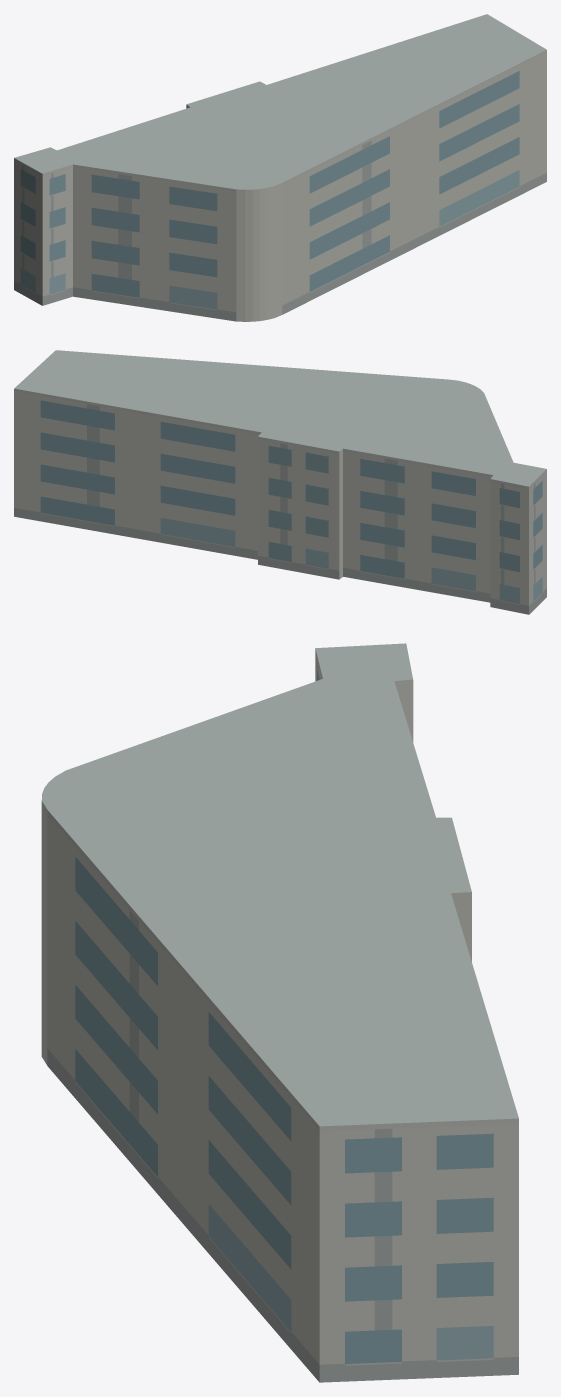
File: survey-upis-32979596.glb
The picture shows the model from 3 angles, top to bottom: view 1: azimuth 30°, elevation 25°; view 2: azimuth 150°, elevation 25°; view 3: azimuth 270°, elevation 25°; orthographic projection. The views are drawn at different scales.
Parts seen in each view (by area): view 1: survey-upis-32979596.tmp; view 2: survey-upis-32979596.tmp; view 3: survey-upis-32979596.tmp.
Boxes of the visible parts, x1,y1,x2,y2 form: survey-upis-32979596.tmp: (14, 14, 546, 321); survey-upis-32979596.tmp: (14, 350, 546, 614); survey-upis-32979596.tmp: (41, 643, 518, 1382).
Bounding box in the file's own units: 49.34 × 12.2 × 20.6.
